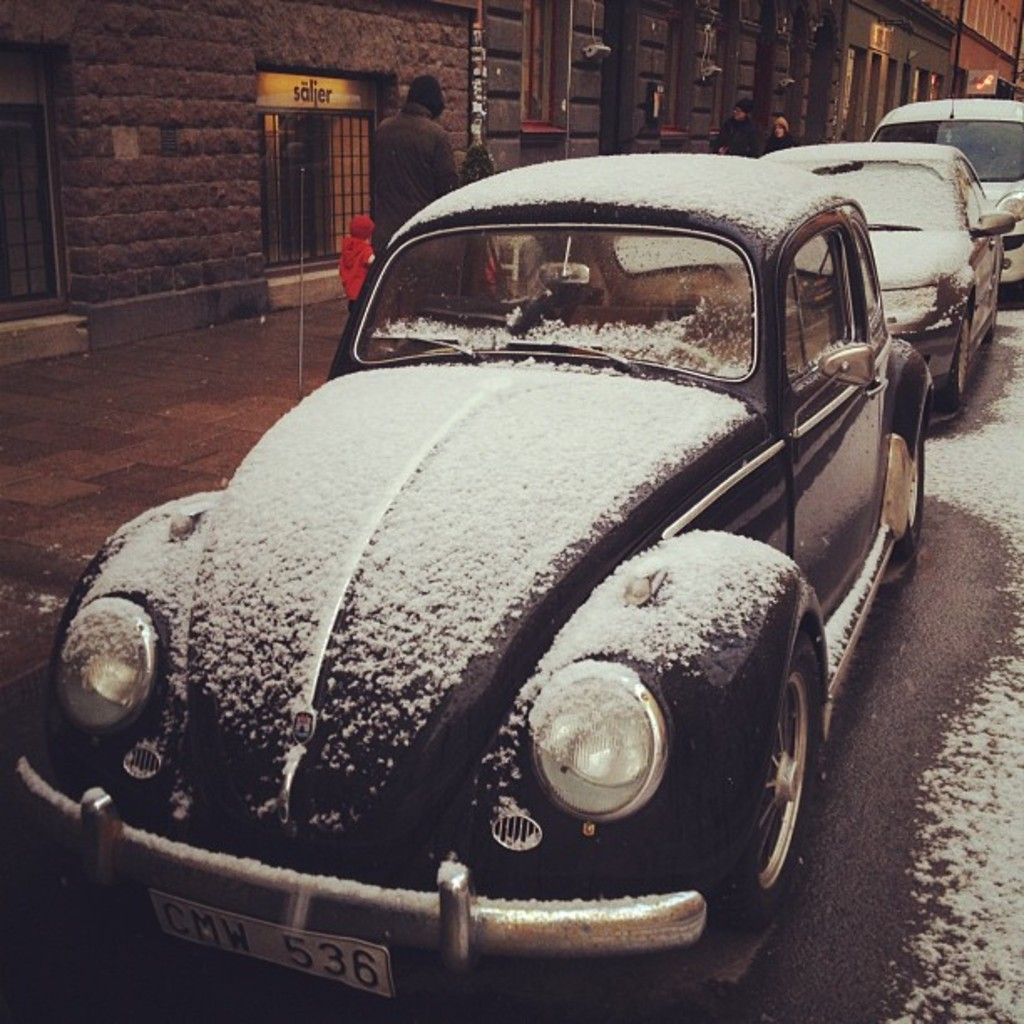person: (336, 212, 377, 318)
